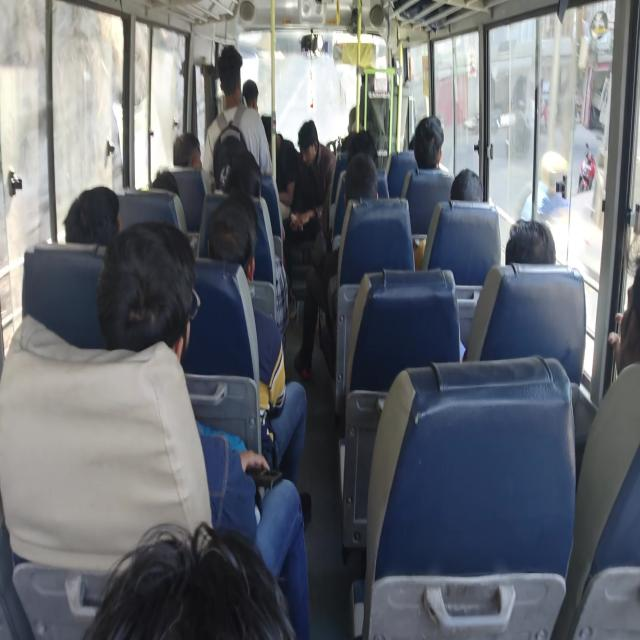person: (115, 501, 343, 640), (119, 218, 198, 366), (300, 116, 340, 239), (201, 202, 264, 280), (603, 232, 640, 360), (510, 208, 580, 269), (212, 174, 278, 222), (74, 181, 116, 247), (262, 111, 290, 206), (449, 168, 504, 215), (218, 48, 255, 111), (171, 120, 205, 172), (349, 155, 384, 198), (416, 116, 440, 172), (355, 122, 379, 170), (225, 144, 254, 182), (241, 79, 266, 115), (150, 171, 166, 196), (402, 128, 417, 148), (346, 130, 358, 152)
